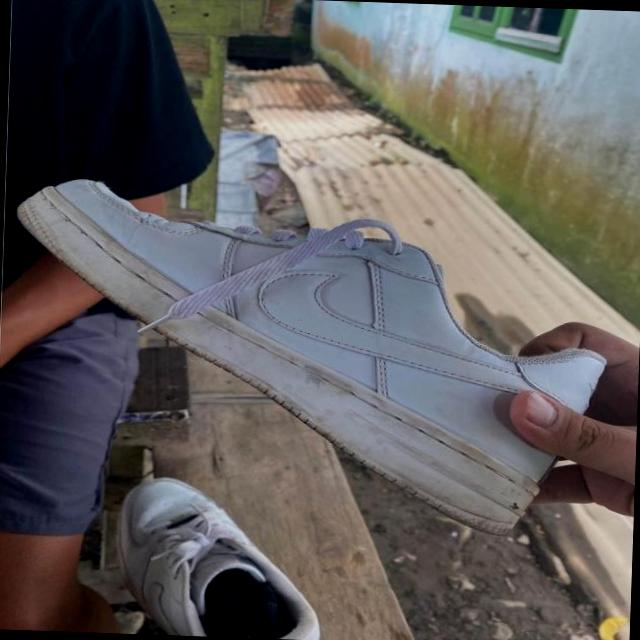nike_fake_airforce: (5, 168, 640, 536)
